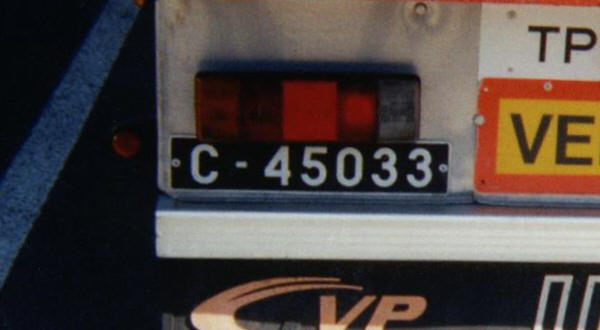license_plate: (170, 139, 450, 195)
